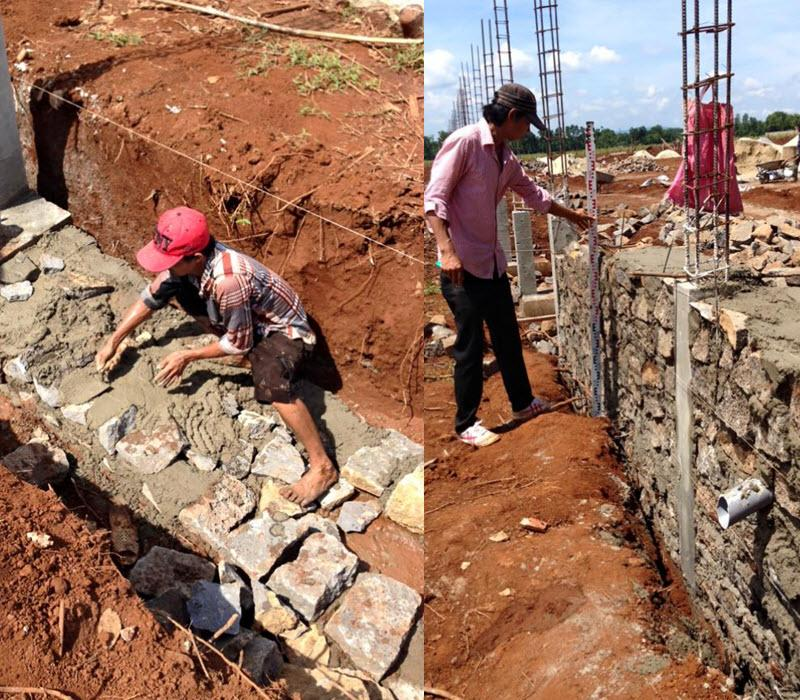Helmet: (134, 204, 210, 273), (483, 81, 555, 128)
Person: (93, 205, 339, 508), (423, 82, 596, 447)
Safety Boot: (506, 393, 559, 421), (456, 418, 500, 447)
bare-arms: (150, 344, 190, 392), (90, 334, 128, 378), (435, 248, 464, 290), (565, 201, 596, 238)
no-boot: (285, 464, 352, 528)
no-vest: (422, 117, 553, 280), (198, 241, 316, 354)
